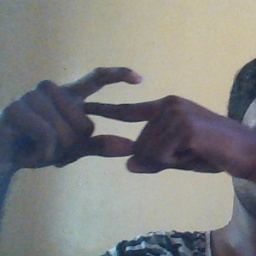E: (65, 63, 163, 163)
